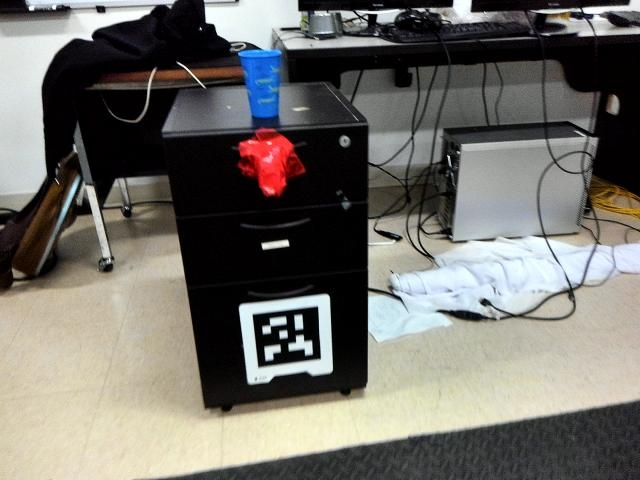water_cup: (232, 44, 290, 118)
